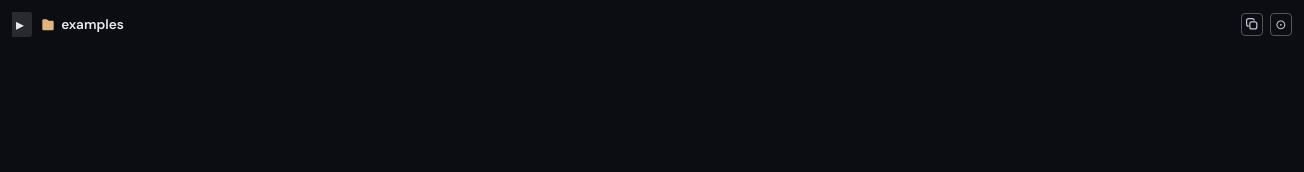
Test case: TreeNode › expands in place on click and fetches children, without navigating (FR-002)
The image size is (1304, 172).
Click the button "examples". click: {"x": 82, "y": 24}
box: [34, 12, 130, 37]
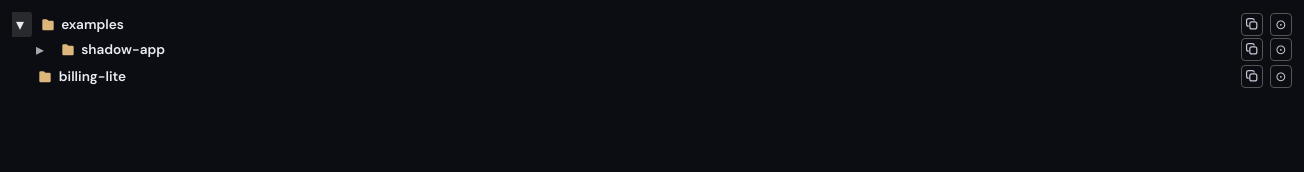
expect the element with test id "tree-node-children" is shown: met, box [12, 37, 1292, 89]
expect the text "shadow-app" is shown: met, box [81, 41, 165, 58]
